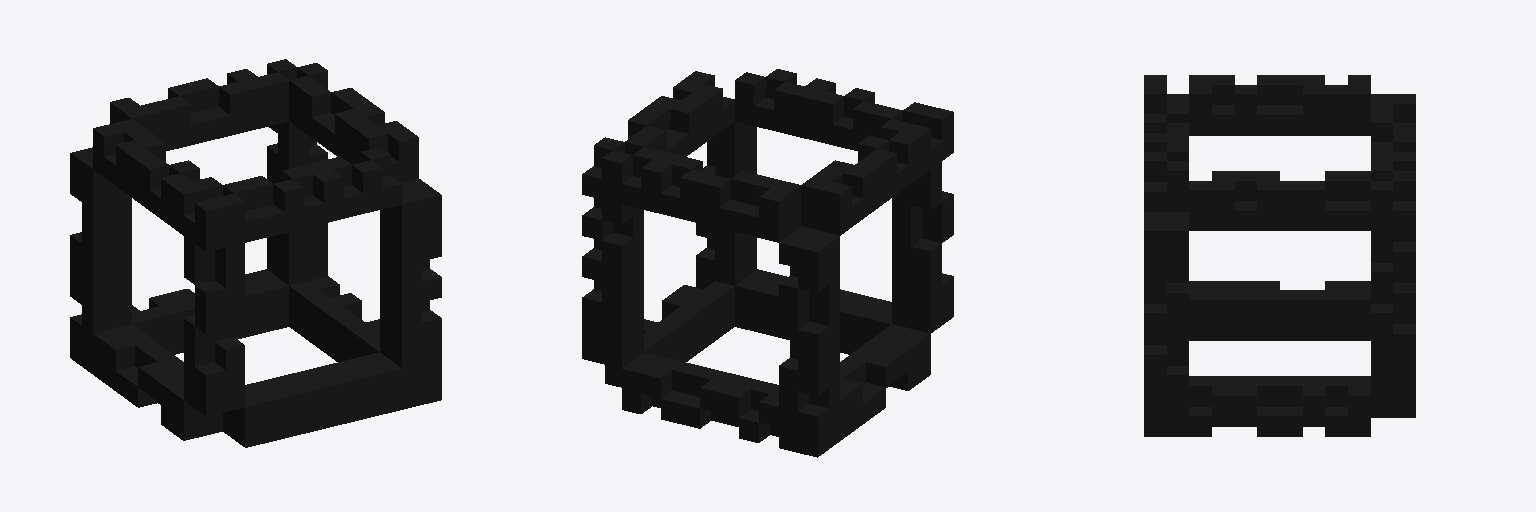
3 renders of one model, left to right at view 1: azimuth 30°, elevation 25°; view 2: azimuth 150°, elevation 25°; view 3: azimuth 270°, elevation 25°, orthographic.
Parts seen in each view (by area): view 1: unityLogo; view 2: unityLogo; view 3: unityLogo.
Part boxes in pixels (x1,y1,x2,y2): unityLogo: (70,59,441,447); unityLogo: (582,69,953,457); unityLogo: (1144,75,1415,436).
Bounding box in the file's own units: 12 × 12 × 12.
Materials: 1 (1 with a texture image).